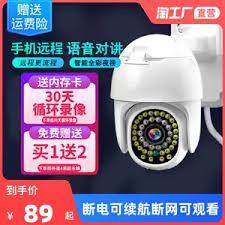maru: (113, 92, 201, 170)
